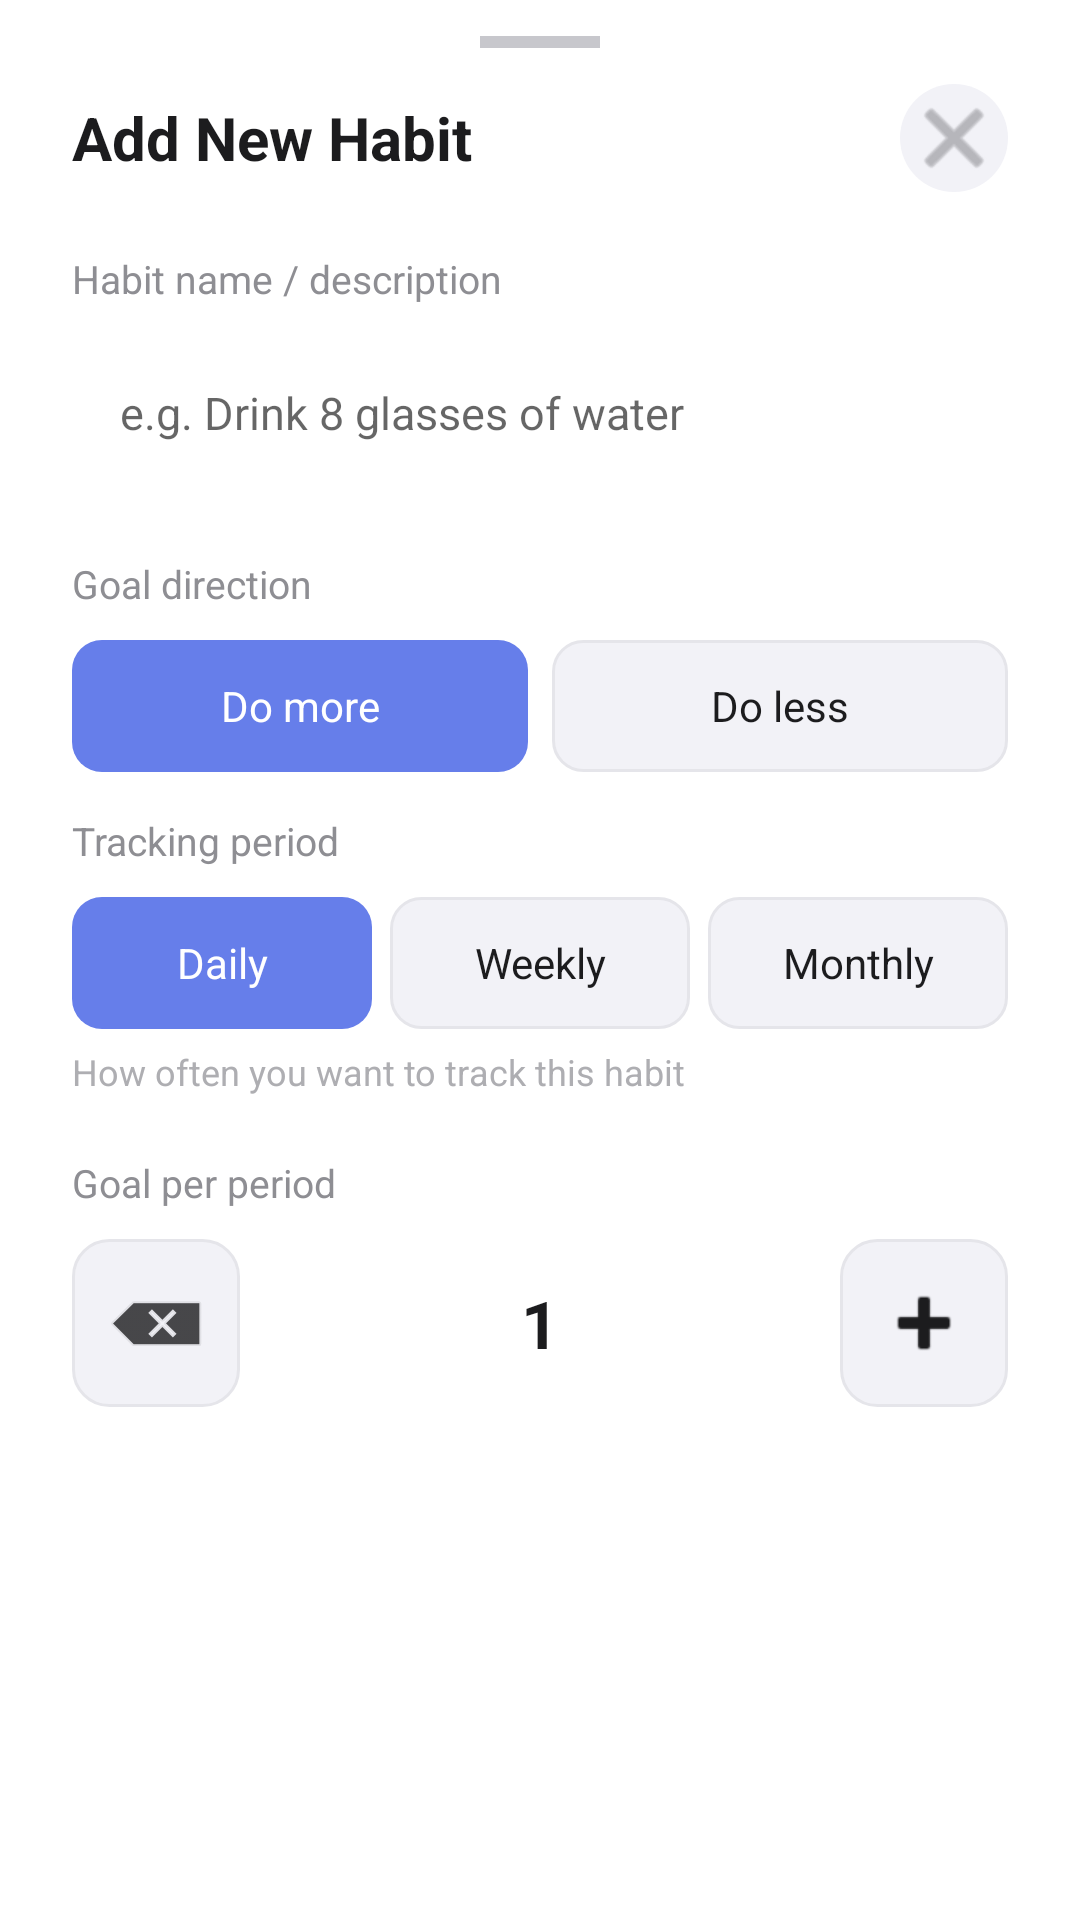

Locate icon controls on the screen. Image size 1080w x 1920h, boxes as rect(x1, y1, x2, y2).
Close: rect(924, 108, 984, 168)
Increase: rect(840, 1239, 1008, 1407)
